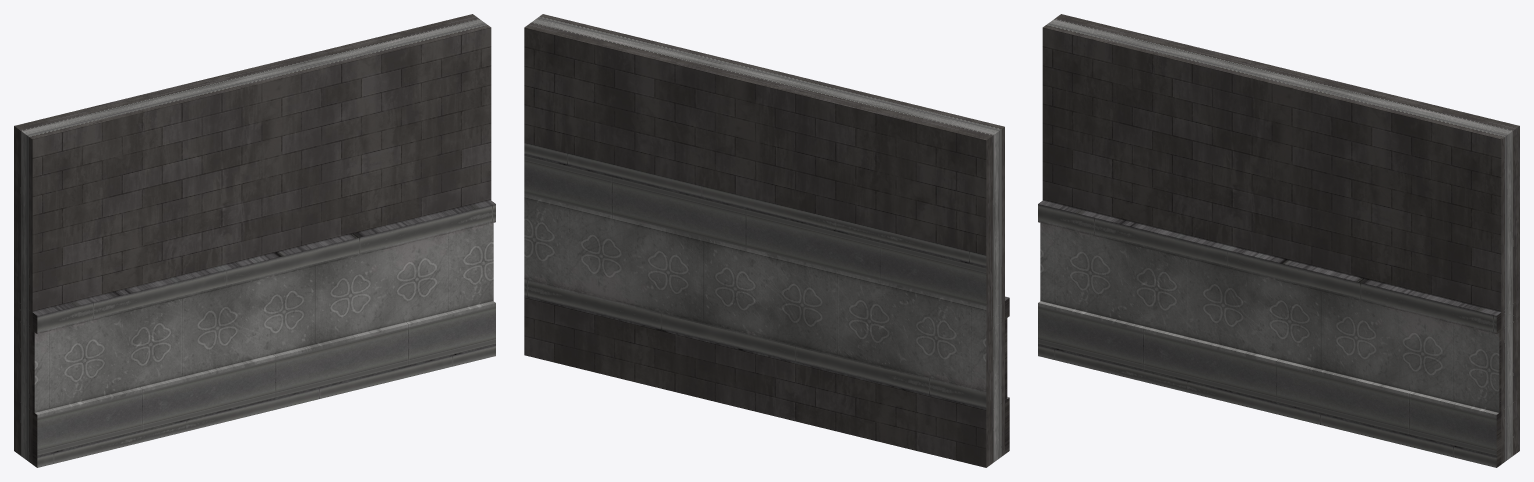
File: Environment_StoneWall_WornGrey.glb
3 views of the same model, side by side, from view 1: azimuth 30°, elevation 25°; view 2: azimuth 150°, elevation 25°; view 3: azimuth 330°, elevation 25° (orthographic).
Parts seen in each view (by area): view 1: TanStoneWall; view 2: TanStoneWall; view 3: TanStoneWall.
Boxes of the visible parts, x1=… form: TanStoneWall: x1=14, y1=14, x2=495, y2=467; TanStoneWall: x1=524, y1=14, x2=1009, y2=467; TanStoneWall: x1=1038, y1=14, x2=1519, y2=467.
Size of the model in its own units: 19.65 by 13.31 by 1.72.
Materials: 1 (1 with a texture image).
